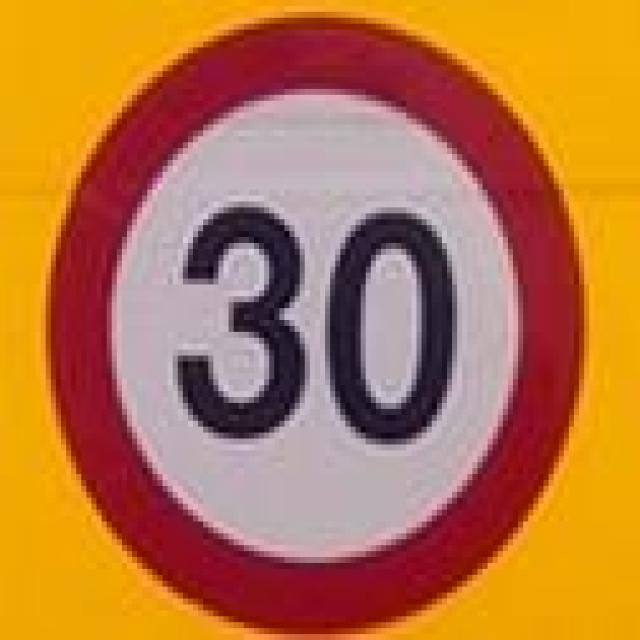speed_limit_30: (36, 12, 579, 622)
